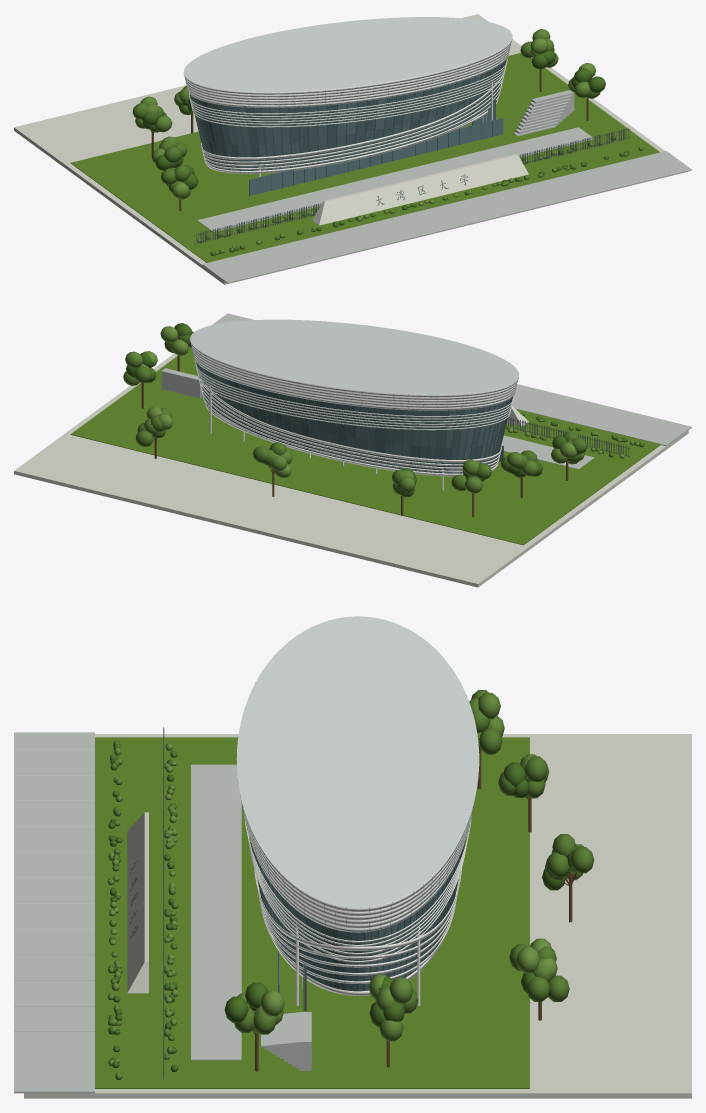
File: campus-reference.glb
3 views of the same model, one above another, from view 1: azimuth 30°, elevation 25°; view 2: azimuth 150°, elevation 25°; view 3: azimuth 270°, elevation 25° (orthographic). The views are drawn at different scales.
Visible parts, largest first — view 1: Lawn, Inferred sloping roof, Public pavement, Landscape plinth, Building apron, Inclined granite campus monument, Crown cladding course 04, Crown cladding course 01, Crown cladding course 05, Crown cladding course 02, Crown cladding course 03, Crown cladding course 00 (+12 smaller); view 2: Lawn, Landscape plinth, Inferred sloping roof, Public pavement, Crown cladding course 02, Crown cladding course 05, Crown cladding course 03, Crown cladding course 04, Crown cladding course 00, Crown cladding course 01, Sculpted lower ribbon 04, Building apron (+12 smaller); view 3: Lawn, Landscape plinth, Inferred sloping roof, Public pavement, Building apron, Inclined granite campus monument, Sculpted lower ribbon 04, Crown cladding course 05, Crown cladding course 04, Crown cladding course 01, Crown cladding course 03, Crown cladding course 02 (+5 smaller).
Part boxes in pixels (left/top/right/bottom): Lawn: left=70, top=53, right=659, bottom=262; Inferred sloping roof: left=183, top=17, right=512, bottom=92; Public pavement: left=202, top=151, right=691, bottom=283; Landscape plinth: left=14, top=14, right=687, bottom=284; Building apron: left=197, top=127, right=593, bottom=231; Inclined granite campus monument: left=312, top=154, right=528, bottom=225; Crown cladding course 04: left=185, top=43, right=511, bottom=97; Crown cladding course 01: left=187, top=51, right=509, bottom=105; Crown cladding course 05: left=184, top=40, right=511, bottom=94; Crown cladding course 02: left=186, top=48, right=509, bottom=102; Crown cladding course 03: left=185, top=45, right=510, bottom=99; Crown cladding course 00: left=187, top=54, right=508, bottom=107; Lawn: left=70, top=347, right=660, bottom=545; Landscape plinth: left=14, top=353, right=688, bottom=587; Inferred sloping roof: left=190, top=319, right=518, bottom=394; Public pavement: left=212, top=313, right=691, bottom=446; Crown cladding course 02: left=192, top=351, right=516, bottom=405; Crown cladding course 05: left=190, top=342, right=518, bottom=397; Crown cladding course 03: left=192, top=348, right=516, bottom=402; Crown cladding course 04: left=191, top=345, right=517, bottom=399; Crown cladding course 00: left=194, top=357, right=514, bottom=410; Crown cladding course 01: left=193, top=354, right=515, bottom=407; Sculpted lower ribbon 04: left=196, top=365, right=501, bottom=462; Building apron: left=501, top=435, right=594, bottom=469; Lawn: left=95, top=737, right=529, bottom=1088; Landscape plinth: left=24, top=734, right=691, bottom=1098; Inferred sloping roof: left=236, top=616, right=479, bottom=907; Public pavement: left=14, top=732, right=94, bottom=1093; Building apron: left=191, top=764, right=241, bottom=1060; Inclined granite campus monument: left=127, top=812, right=148, bottom=993; Sculpted lower ribbon 04: left=254, top=868, right=461, bottom=950; Crown cladding course 05: left=241, top=797, right=475, bottom=911; Crown cladding course 04: left=241, top=802, right=473, bottom=916; Crown cladding course 01: left=245, top=818, right=471, bottom=928; Crown cladding course 03: left=243, top=809, right=472, bottom=920; Crown cladding course 02: left=244, top=813, right=472, bottom=924.
Size of the model in its own units: 84.01 by 19.25 by 67.
